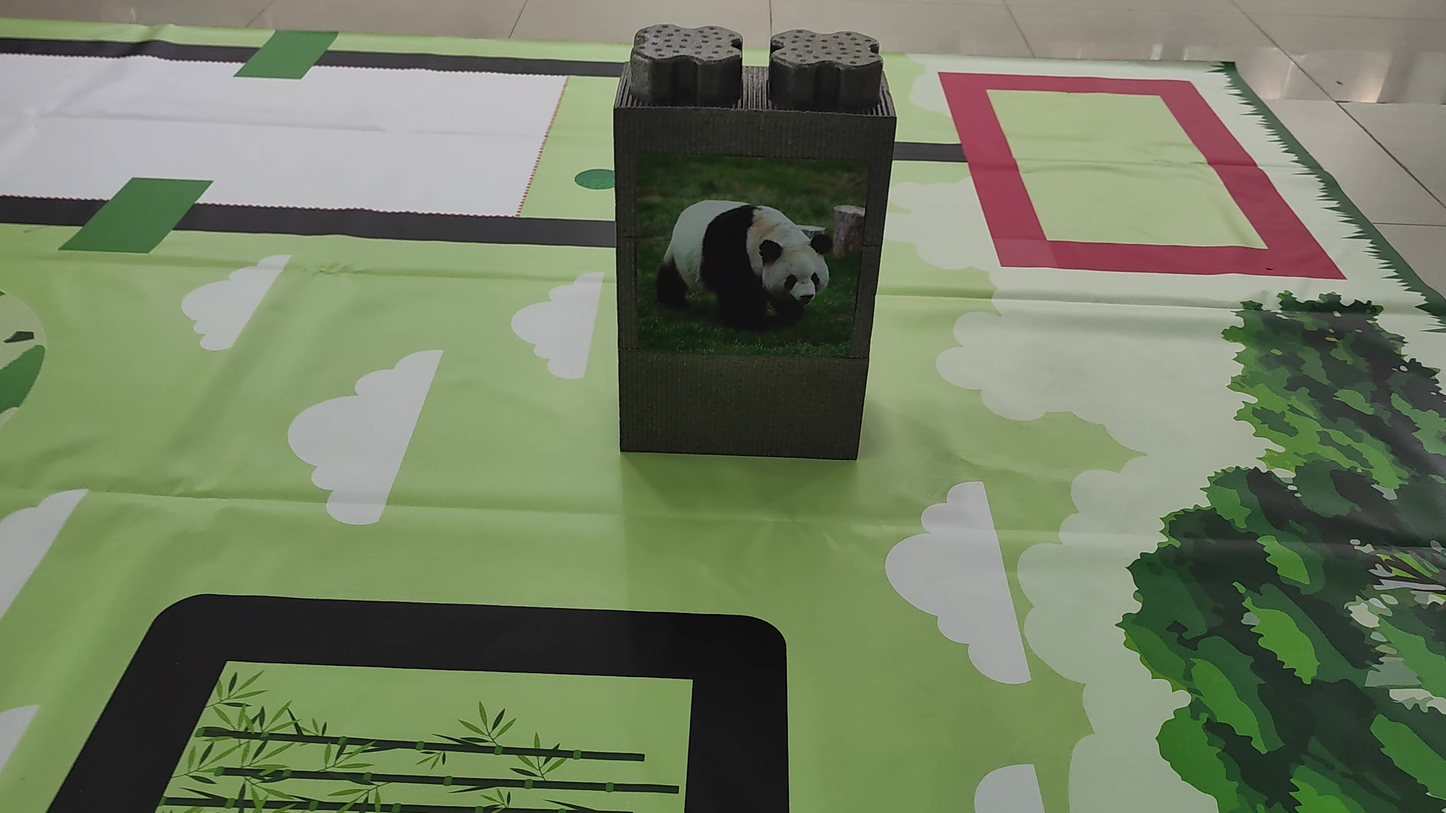panda: (628, 180, 850, 365)
